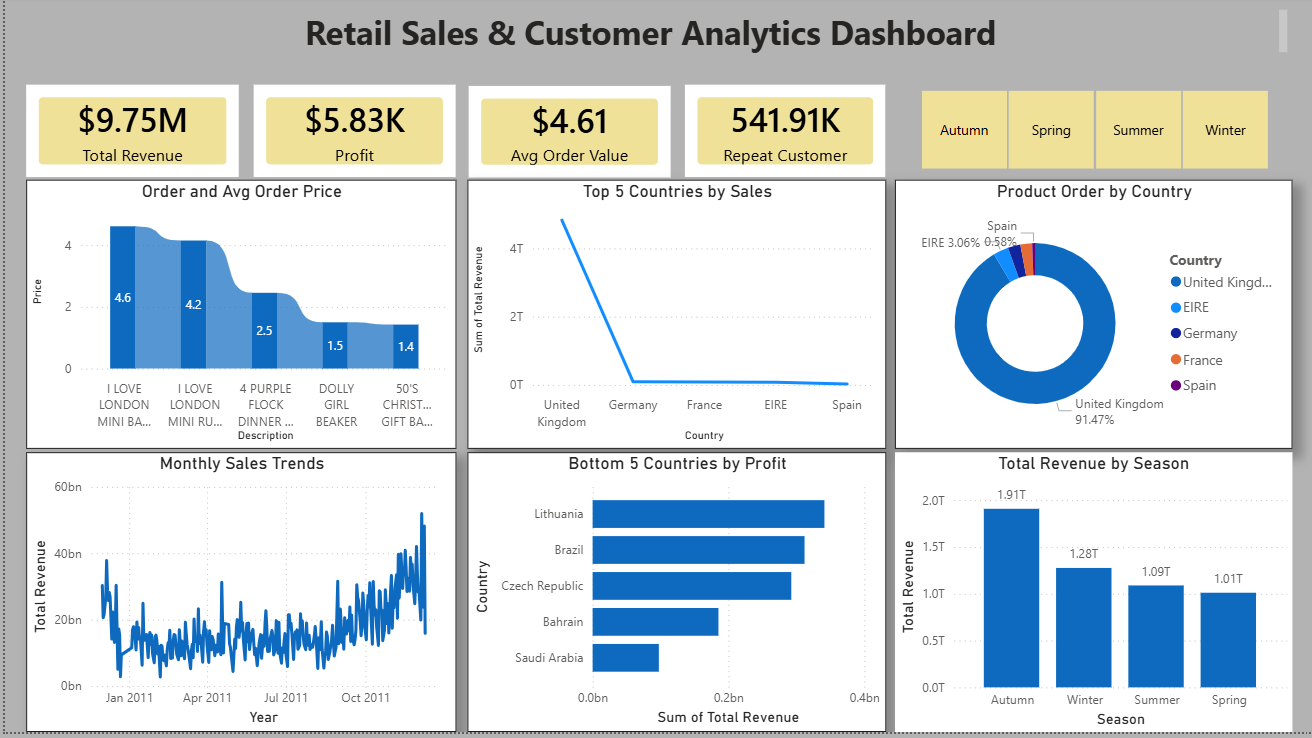

What the dashboard file says about the page in this screenshot:
{"tool":"powerbi","page":{"name":"Retail Sales & Customer Analytics Dashboard ","canvas":[1280,720],"ordinal":0},"visuals":[{"type":"textbox","box":[20.8,8.6,1238.7,59.9],"z":0},{"type":"cardVisual","fields":{"Data":["Sum(Year 2010-2011.Total Revenue)"]},"box":[15.9,82.2,218.9,100.3],"z":1000},{"type":"cardVisual","fields":{"Data":["Avg(Year 2010-2011.Profit)"]},"box":[447.6,82.2,207.9,100.3],"z":2000},{"type":"cardVisual","fields":{"Data":["Sum(Year 2010-2011.Total Sales)"]},"box":[237.2,83.4,207.9,99],"z":3000},{"type":"lineChart","title":"Top 5  Countries by Sales","fields":{"Category":["Year 2010-2011.Country"],"Y":["Sum(Year 2010-2011.Total Sales)"]},"box":[452.4,179.8,409.6,262.9],"z":4000},{"type":"donutChart","title":"Product Order by Country","fields":{"Y":["Sum(Year 2010-2011.Quantity)"],"Category":["Year 2010-2011.Country"]},"box":[870.7,179.8,388.9,262.9],"z":5000},{"type":"lineChart","title":"Monthly Sales Trends","fields":{"Category":["Year 2010-2011.InvoiceDate.Variation.Date Hierarchy.Year","Year 2010-2011.InvoiceDate.Variation.Date Hierarchy.Quarter","Year 2010-2011.InvoiceDate.Variation.Date Hierarchy.Month","Year 2010-2011.InvoiceDate.Variation.Date Hierarchy.Day"],"Y":["Sum(Year 2010-2011.Total Revenue)"]},"box":[20.8,446.3,420.7,273.9],"z":6000},{"type":"cardVisual","fields":{"Data":["CountNonNull(Year 2010-2011.Repeat Customer Flag)"]},"box":[660.3,82.2,206.7,100.3],"z":7000},{"type":"ribbonChart","title":"Order and Avg Order Price","fields":{"Y":["Avg(Year 2010-2011.Price)"],"Category":["Year 2010-2011.Description"]},"box":[20.8,179.8,420.7,262.9],"z":8000},{"type":"barChart","title":"Bottom 5  Countries by Profit","fields":{"Category":["Year 2010-2011.Country"],"Y":["Sum(Year 2010-2011.Profit)"]},"box":[452.4,446.3,409.6,273.9],"z":9000},{"type":"slicer","fields":{"Values":["Year 2010-2011.Season"]},"box":[870.7,85.8,388.9,90.5],"z":10000},{"type":"clusteredColumnChart","fields":{"Category":["Year 2010-2011.Season"],"Y":["Sum(Year 2010-2011.Total Sales)"]},"box":[871,446,389,274],"z":11000}]}

Visuals, with their boxes in screenshot pixels (x1, y1, x2, y2), scaled from the page's 1280x720 canvas onto the 1312x738 screenshot:
textbox: region(21, 9, 1291, 70)
cardVisual - Sum(Year 2010-2011.Total Revenue): region(16, 84, 241, 187)
cardVisual - Avg(Year 2010-2011.Profit): region(459, 84, 672, 187)
cardVisual - Sum(Year 2010-2011.Total Sales): region(243, 85, 456, 187)
"Top 5  Countries by Sales" lineChart: region(464, 184, 884, 454)
"Product Order by Country" donutChart: region(892, 184, 1291, 454)
"Monthly Sales Trends" lineChart: region(21, 457, 453, 737)
cardVisual - CountNonNull(Year 2010-2011.Repeat Customer Flag): region(677, 84, 889, 187)
"Order and Avg Order Price" ribbonChart: region(21, 184, 453, 454)
"Bottom 5  Countries by Profit" barChart: region(464, 457, 884, 737)
slicer - Year 2010-2011.Season: region(892, 88, 1291, 181)
clusteredColumnChart - Year 2010-2011.Season x Sum(Year 2010-2011.Total Sales): region(893, 457, 1292, 737)
